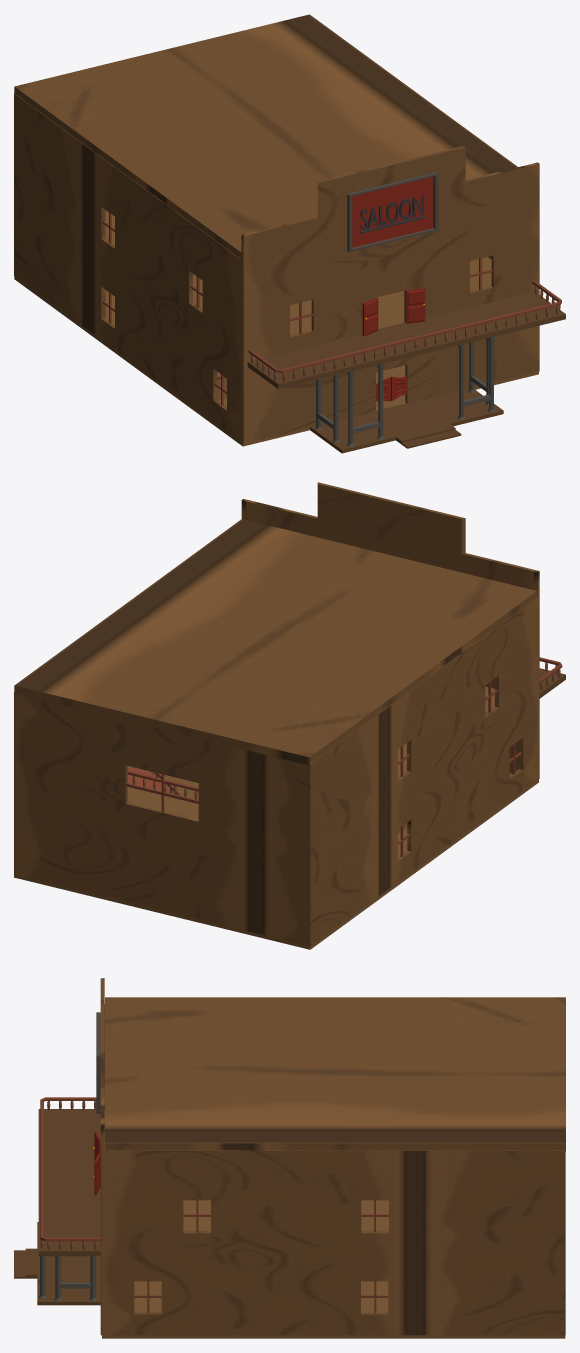
File: SaloonMap_Final.fbx
The picture shows the model from 3 angles, top to bottom: view 1: azimuth 30°, elevation 25°; view 2: azimuth 150°, elevation 25°; view 3: azimuth 270°, elevation 25°; orthographic projection.
Visible parts, largest first — view 1: Roof, WallFront, WallsLR, FloorUp, BalconyStuff, FloorDown, Sign, Props, Text; view 2: Roof, WallBack, WallsLR, WallFront, FloorDown, FloorUp, Props; view 3: WallsLR, Roof, FloorUp, FloorDown, BalconyStuff, WallFront, Props, Sign.
Boxes of the visible parts, x1=… form: Roof: x1=14, y1=14, x2=517, y2=258; WallFront: x1=241, y1=146, x2=539, y2=443; WallsLR: x1=14, y1=93, x2=491, y2=443; FloorUp: x1=105, y1=210, x2=565, y2=389; BalconyStuff: x1=248, y1=280, x2=561, y2=446; FloorDown: x1=14, y1=276, x2=538, y2=453; Sign: x1=347, y1=172, x2=438, y2=251; Props: x1=102, y1=212, x2=492, y2=405; Text: x1=360, y1=195, x2=424, y2=233; Roof: x1=14, y1=519, x2=537, y2=765; WallBack: x1=14, y1=692, x2=310, y2=946; WallsLR: x1=150, y1=597, x2=539, y2=946; WallFront: x1=241, y1=482, x2=539, y2=773; FloorDown: x1=14, y1=773, x2=538, y2=949; FloorUp: x1=127, y1=668, x2=565, y2=819; Props: x1=126, y1=681, x2=521, y2=856; WallsLR: x1=100, y1=1004, x2=565, y2=1335; Roof: x1=105, y1=997, x2=565, y2=1151; FloorUp: x1=38, y1=1109, x2=388, y2=1256; FloorDown: x1=14, y1=1222, x2=565, y2=1338; BalconyStuff: x1=39, y1=1097, x2=100, y2=1301; WallFront: x1=100, y1=978, x2=104, y2=1150; Props: x1=134, y1=1200, x2=388, y2=1313; Sign: x1=96, y1=1012, x2=100, y2=1113.
Bounding box in the file's own units: 84.27 × 67 × 134.
